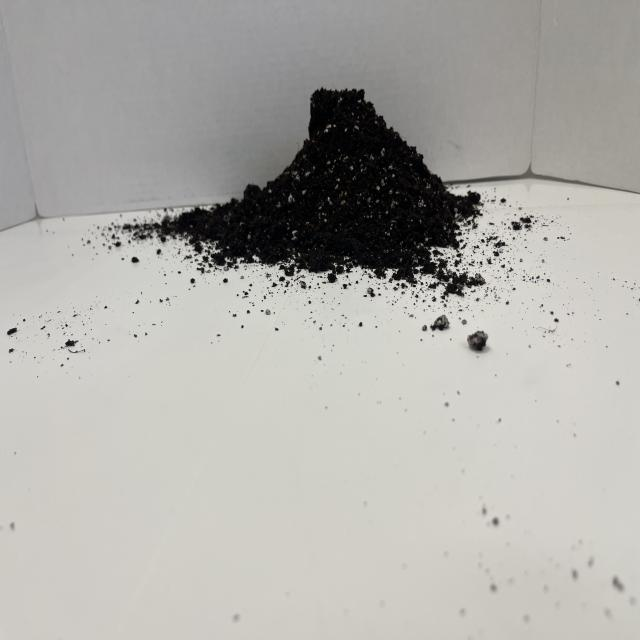soil: (133, 84, 482, 282)
